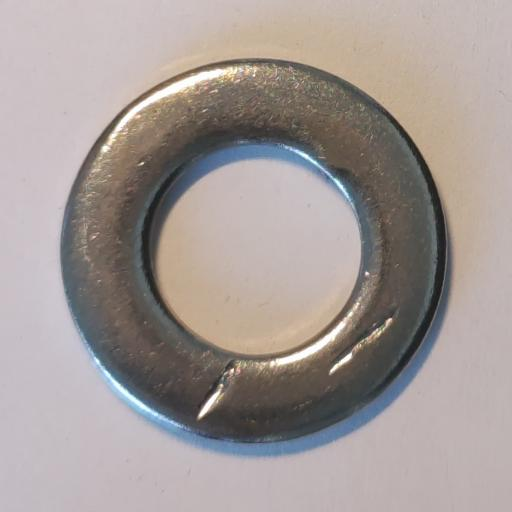scratch: (328, 307, 400, 377), (196, 359, 242, 422)
